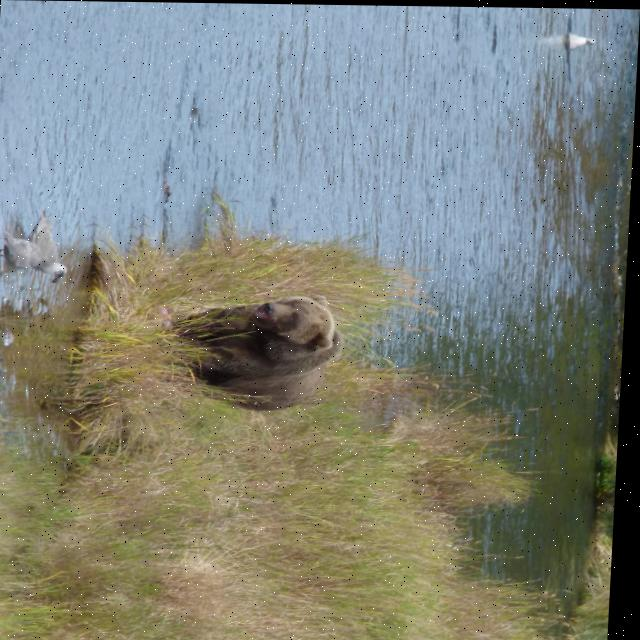bear face: (184, 291, 345, 407)
